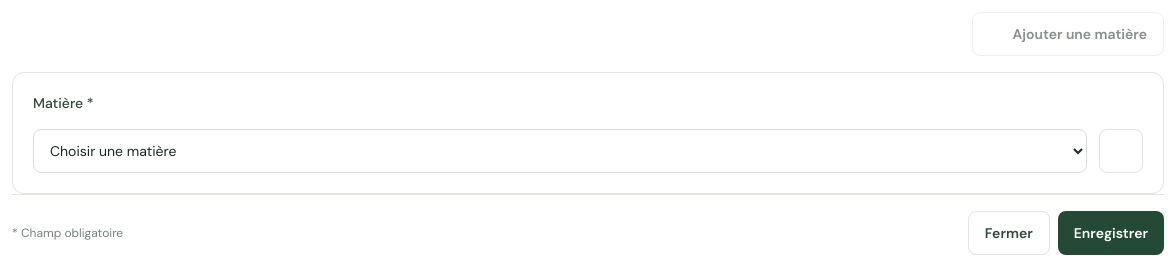
Test: ClassSubjectManagerComponent › affecte une matière depuis la grille et met la liste à jour sans relecture
Select "Mathématiques · MATH" in the dropdown at (560, 151), box [33, 129, 1087, 173]
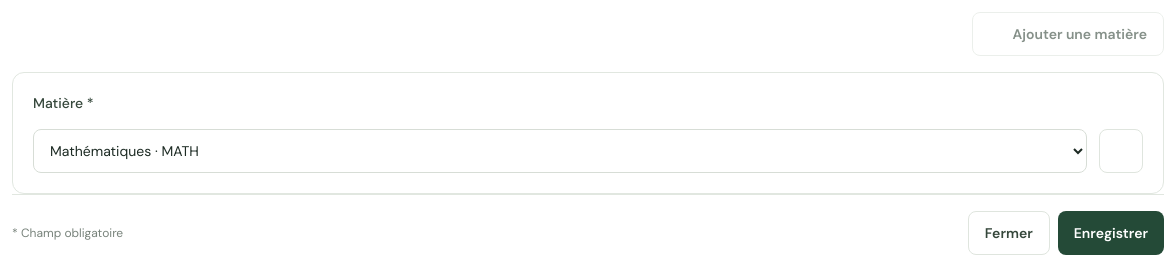
Submit the form
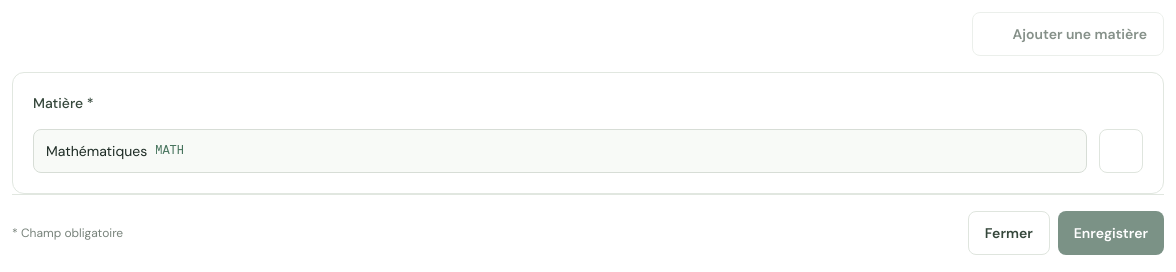
Check: the dropdown is gone
